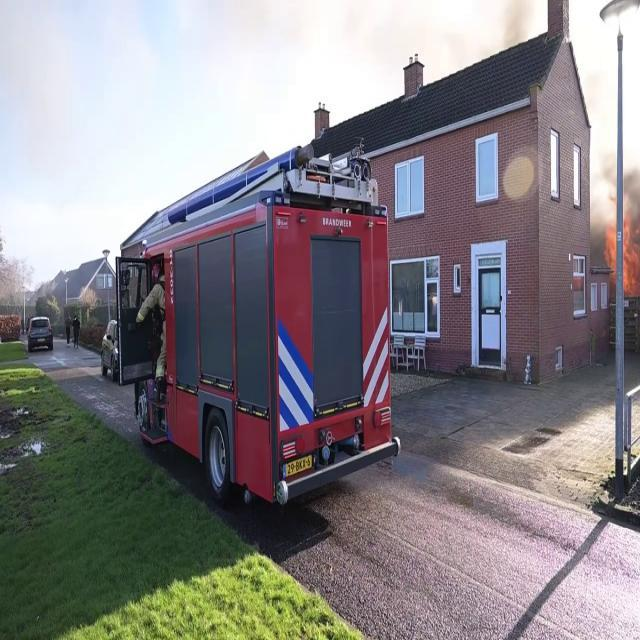Fire: (604, 198, 638, 298)
Smoke: (582, 134, 640, 255)
